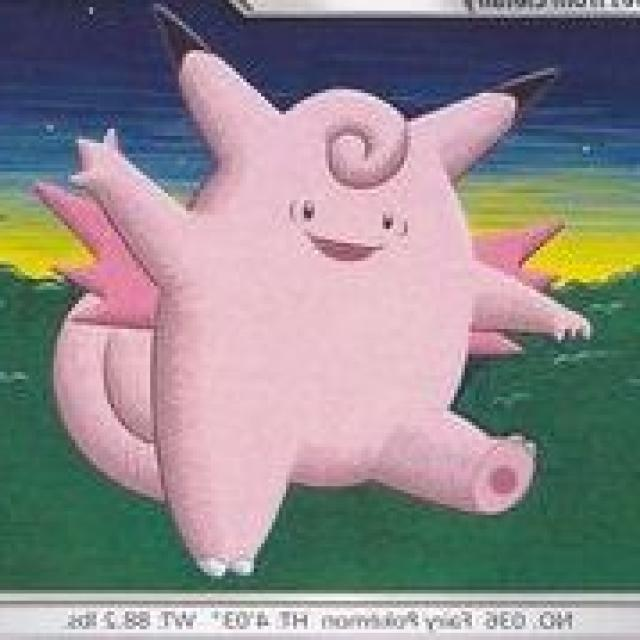Clefable: (77, 59, 549, 556)
